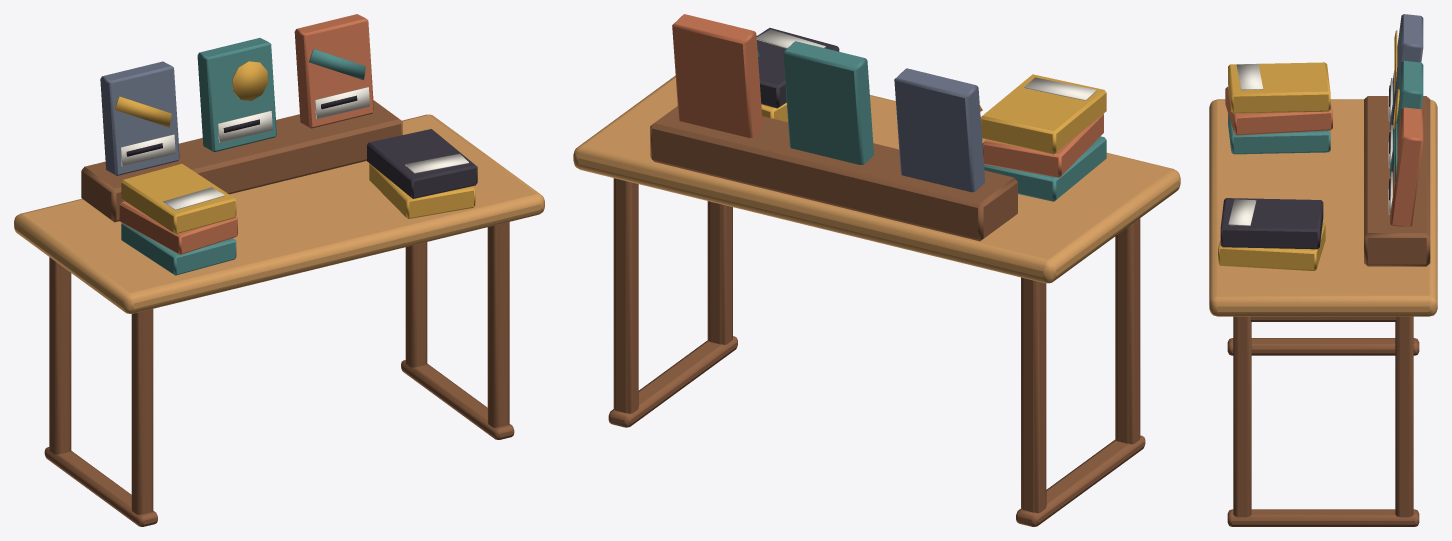
The model's file is retail_shelf_l1.glb.
3 renders of one model, left to right at view 1: azimuth 30°, elevation 25°; view 2: azimuth 150°, elevation 25°; view 3: azimuth 270°, elevation 25°, orthographic. The views are drawn at different scales.
Visible parts, largest first — view 1: retail_shelf_l1; view 2: retail_shelf_l1; view 3: retail_shelf_l1.
Part boxes in pixels (left/top/right/bottom): retail_shelf_l1: left=14, top=14, right=544, bottom=526; retail_shelf_l1: left=573, top=14, right=1180, bottom=526; retail_shelf_l1: left=1209, top=14, right=1437, bottom=526.
Size of the model in its own units: 1.3 by 1.09 by 0.62.
